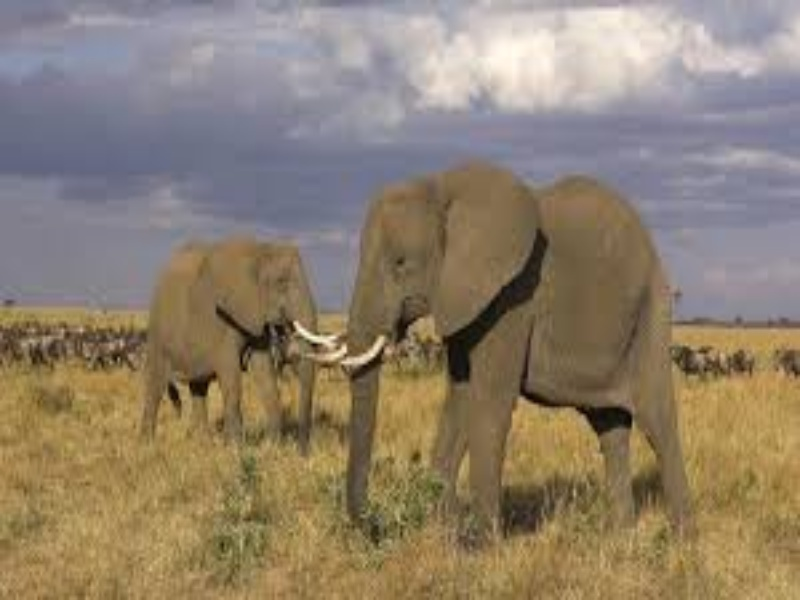elephant: (133, 161, 729, 557)
